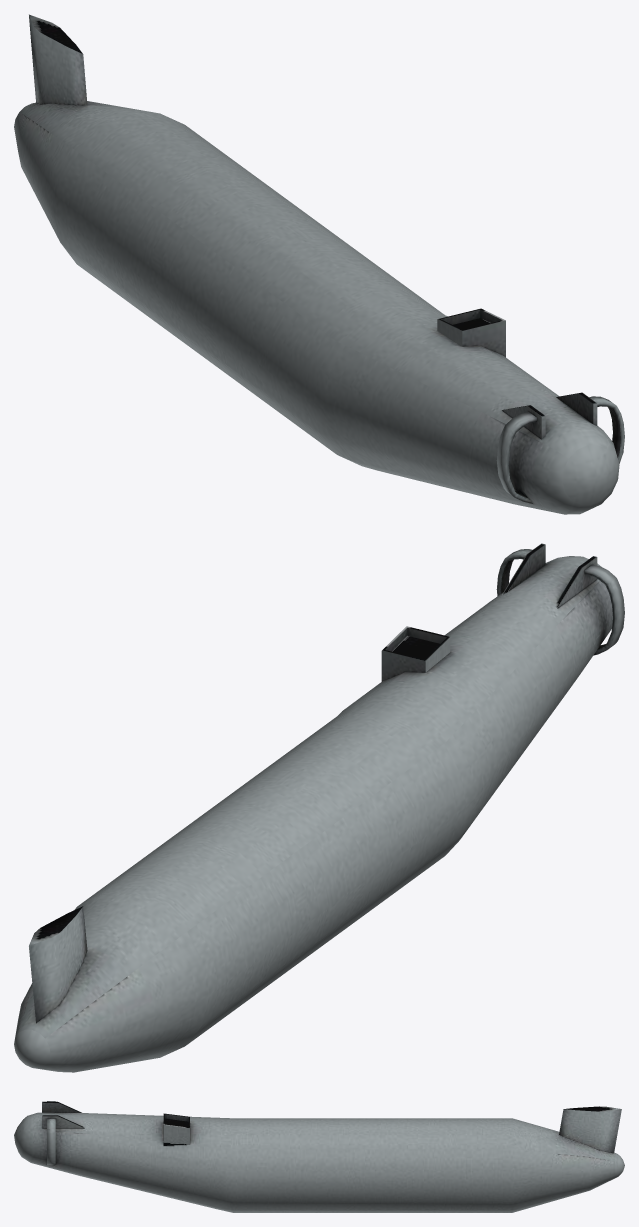
Rendered from mig29ftk.glb.
The picture shows the model from 3 angles, top to bottom: view 1: azimuth 30°, elevation 25°; view 2: azimuth 150°, elevation 25°; view 3: azimuth 270°, elevation 25°; orthographic projection. The views are drawn at different scales.
Visible parts, largest first — view 1: mig29ftk_body; view 2: mig29ftk_body; view 3: mig29ftk_body.
Boxes of the visible parts, x1,y1,x2,y2 form: mig29ftk_body: (14, 14, 624, 514); mig29ftk_body: (14, 543, 624, 1072); mig29ftk_body: (14, 1101, 624, 1212).
Size of the model in its own units: 0.7649 by 0.886 by 4.93.
1 material, 1 textured.
